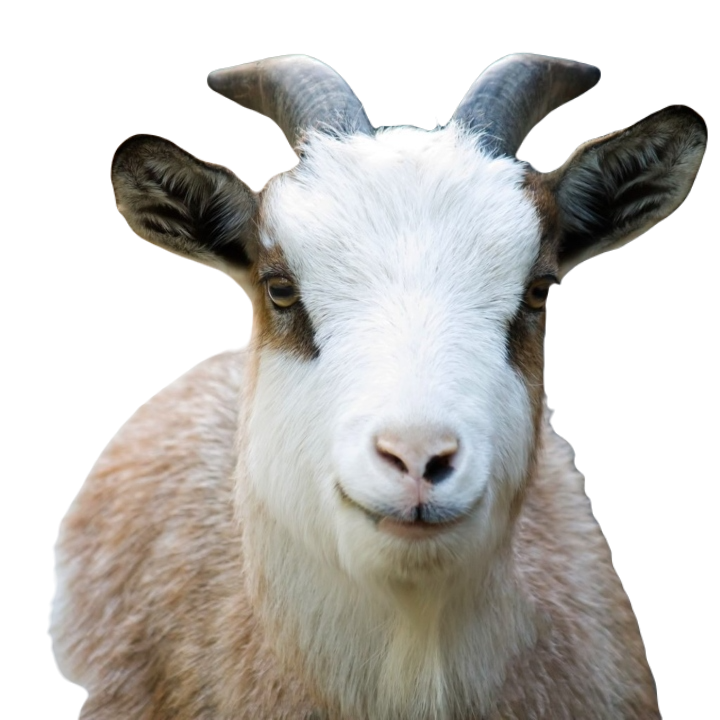Goat: (43, 49, 709, 719)
